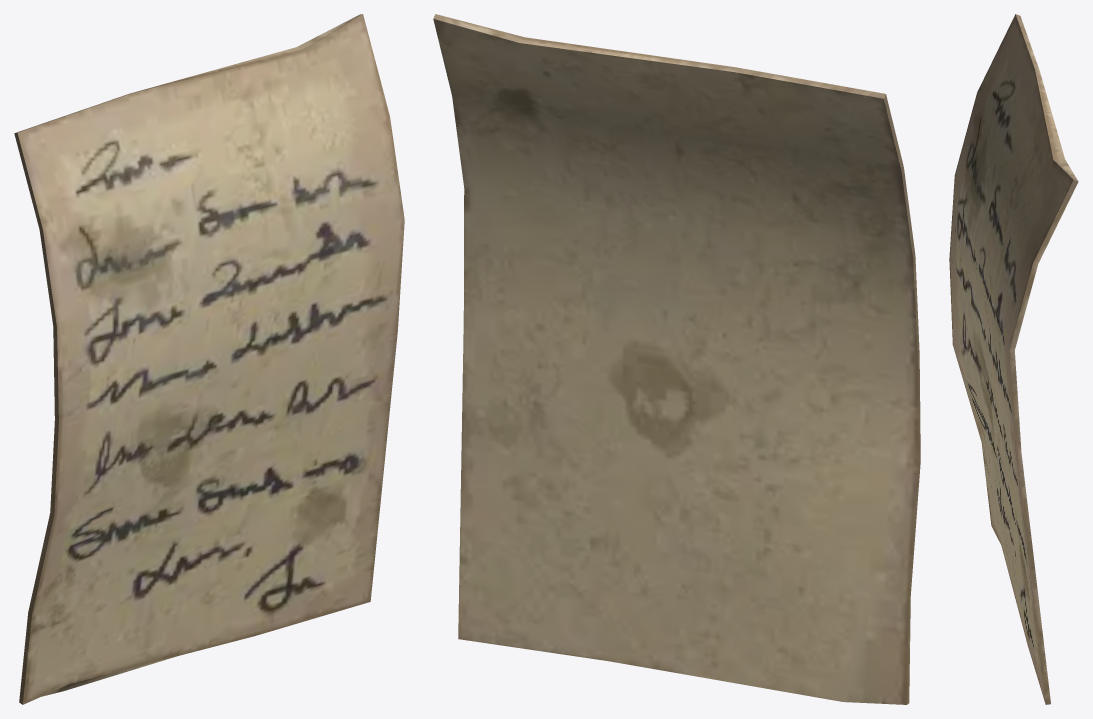
3 renders of one model, left to right at view 1: azimuth 30°, elevation 25°; view 2: azimuth 150°, elevation 25°; view 3: azimuth 270°, elevation 25°, orthographic. The views are drawn at different scales.
Parts seen in each view (by area): view 1: SM_Scarecrow_Letter_LOD0; view 2: SM_Scarecrow_Letter_LOD0; view 3: SM_Scarecrow_Letter_LOD0.
Boxes of the visible parts, x1,y1,x2,y2 form: SM_Scarecrow_Letter_LOD0: (14, 14, 404, 704); SM_Scarecrow_Letter_LOD0: (433, 14, 920, 704); SM_Scarecrow_Letter_LOD0: (949, 14, 1078, 704).
Bounding box in the file's own units: 0.2305 × 0.3225 × 0.0715.
Materials: 1 (1 with a texture image).
